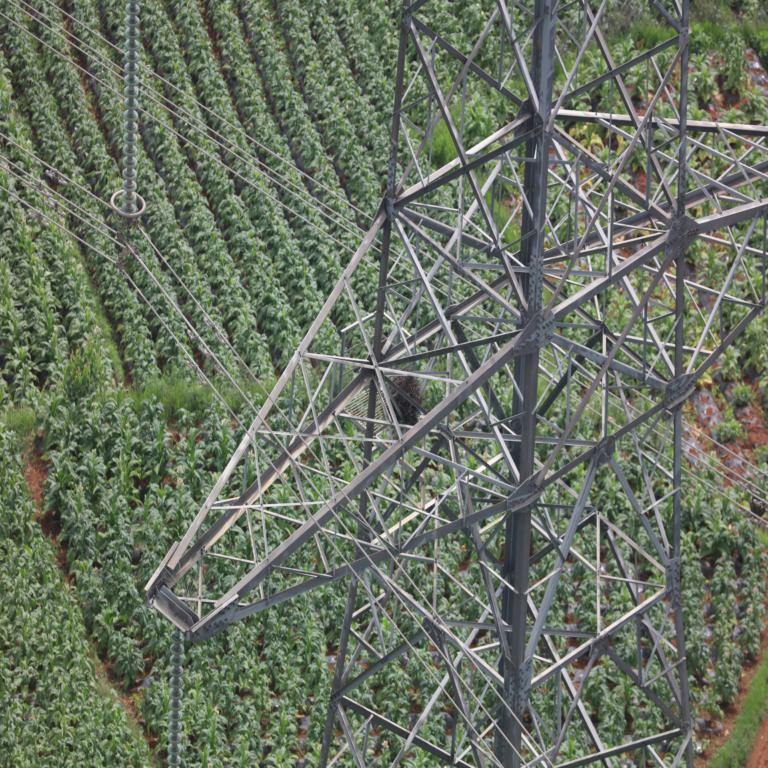nest: (387, 374, 420, 426)
